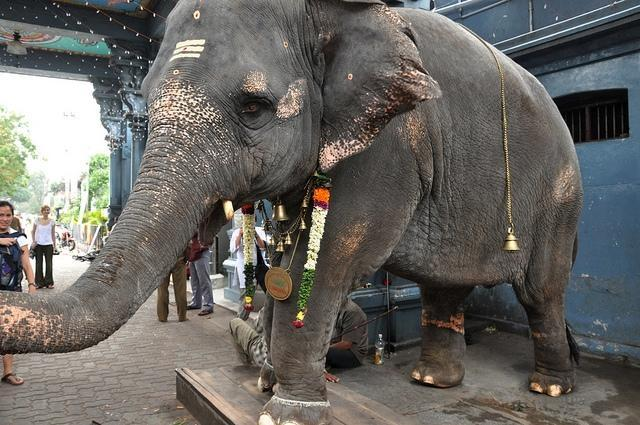motorcycle: (54, 222, 77, 255)
